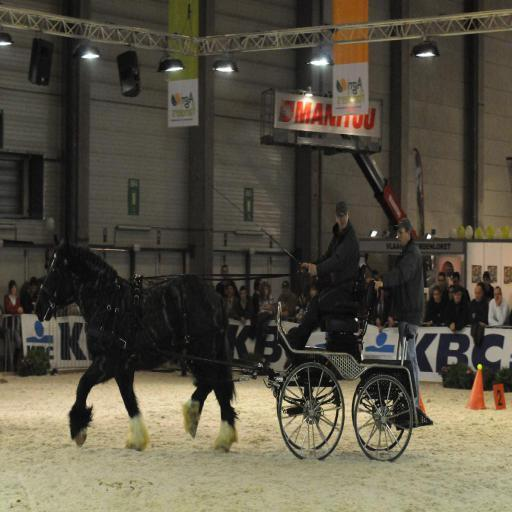horse: (34, 225, 242, 455)
